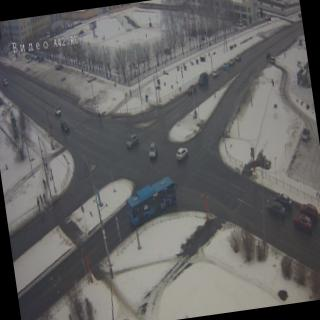large-vehicle: (122, 174, 183, 226)
small-vehicle: (290, 210, 314, 237), (266, 197, 286, 220), (300, 198, 318, 222), (123, 130, 143, 150), (274, 189, 292, 210), (196, 68, 210, 88), (174, 146, 190, 160), (184, 80, 198, 96), (146, 142, 158, 158), (50, 102, 61, 117), (60, 119, 72, 132), (208, 66, 220, 78), (225, 53, 235, 67), (219, 57, 229, 70), (232, 50, 242, 62), (1, 74, 8, 86)
